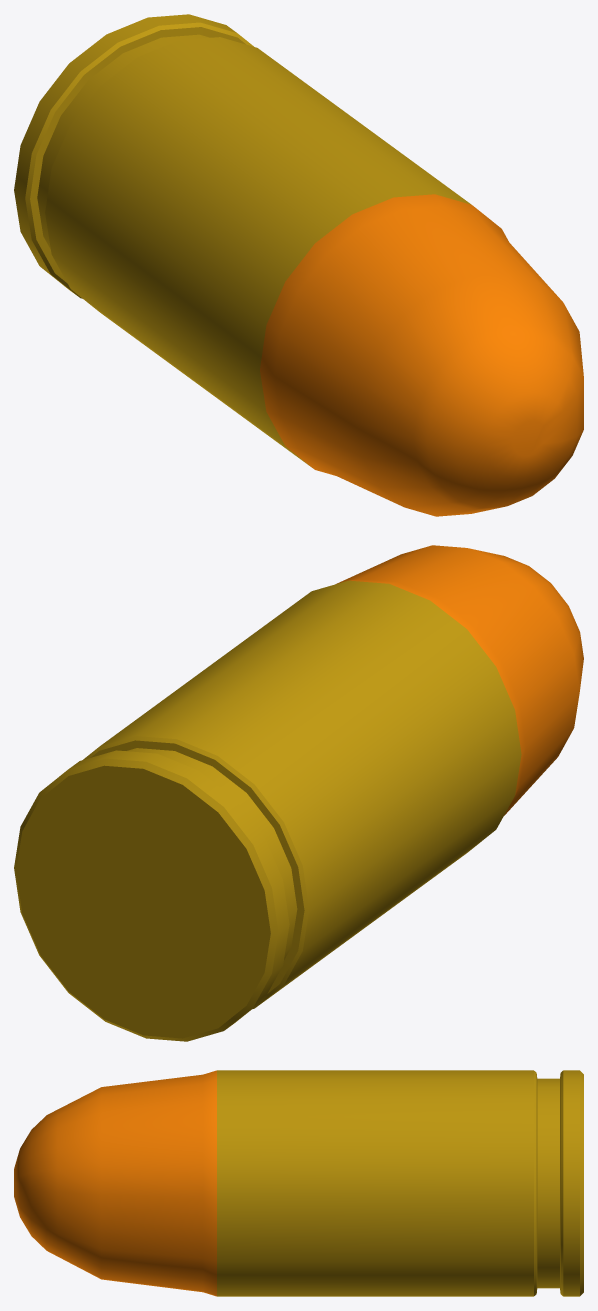
Rendered from bullet.fbx.
3 views of the same model, one above another, from view 1: azimuth 30°, elevation 25°; view 2: azimuth 150°, elevation 25°; view 3: azimuth 270°, elevation 25° (orthographic). The views are drawn at different scales.
Parts seen in each view (by area): view 1: mesh; view 2: mesh; view 3: mesh.
Boxes of the visible parts, bbox=[...] form: mesh: bbox=[14, 14, 583, 516]; mesh: bbox=[14, 545, 583, 1041]; mesh: bbox=[14, 1070, 583, 1296].
Bounding box in the file's own units: 2 × 2 × 5.
Materials: 1 (1 with a texture image).
